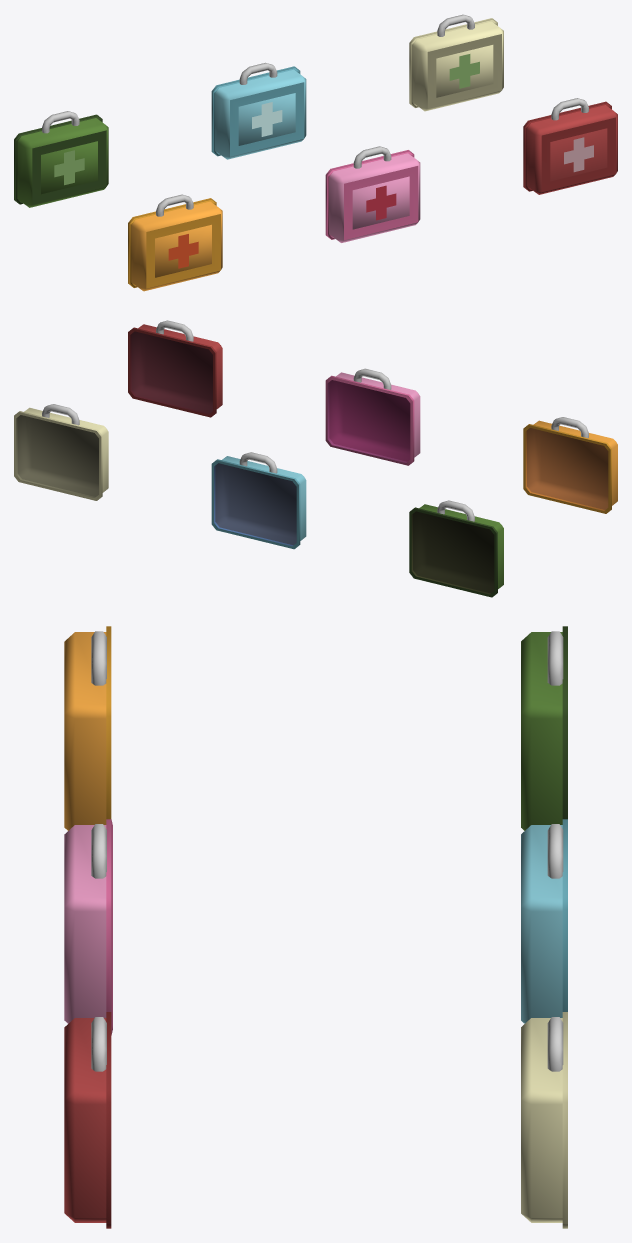
Rendered from Medkits.fbx.
3 views of the same model, one above another, from view 1: azimuth 30°, elevation 25°; view 2: azimuth 150°, elevation 25°; view 3: azimuth 270°, elevation 25° (orthographic). The views are drawn at different scales.
Parts seen in each view (by area): view 1: MedkitOxygen, MedkitBrute, MedkitAdvanced, Medkit, MedkitToxin, MedkitBurn; view 2: MedkitOxygen, MedkitBrute, MedkitAdvanced, MedkitToxin, Medkit, MedkitBurn; view 3: MedkitAdvanced, Medkit, MedkitBrute, MedkitBurn, MedkitToxin, MedkitOxygen.
Part boxes in pixels (x1,y1,x2,y2): MedkitOxygen: (211, 62, 306, 159); MedkitBrute: (325, 146, 420, 242); MedkitAdvanced: (523, 98, 617, 194); Medkit: (409, 14, 503, 111); MedkitToxin: (14, 111, 108, 207); MedkitBurn: (128, 194, 222, 291); MedkitOxygen: (211, 452, 306, 549); MedkitBrute: (325, 368, 420, 465); MedkitAdvanced: (128, 320, 222, 417); MedkitToxin: (409, 500, 503, 597); Medkit: (14, 404, 108, 500); MedkitBurn: (523, 417, 617, 513); MedkitAdvanced: (64, 1012, 111, 1228); Medkit: (521, 1012, 567, 1228); MedkitBrute: (64, 819, 112, 1035); MedkitBurn: (64, 626, 111, 830); MedkitToxin: (521, 626, 567, 830); MedkitOxygen: (521, 819, 567, 1023).
Bounding box in the file's own units: 2.44 × 0.4001 × 1.1.
